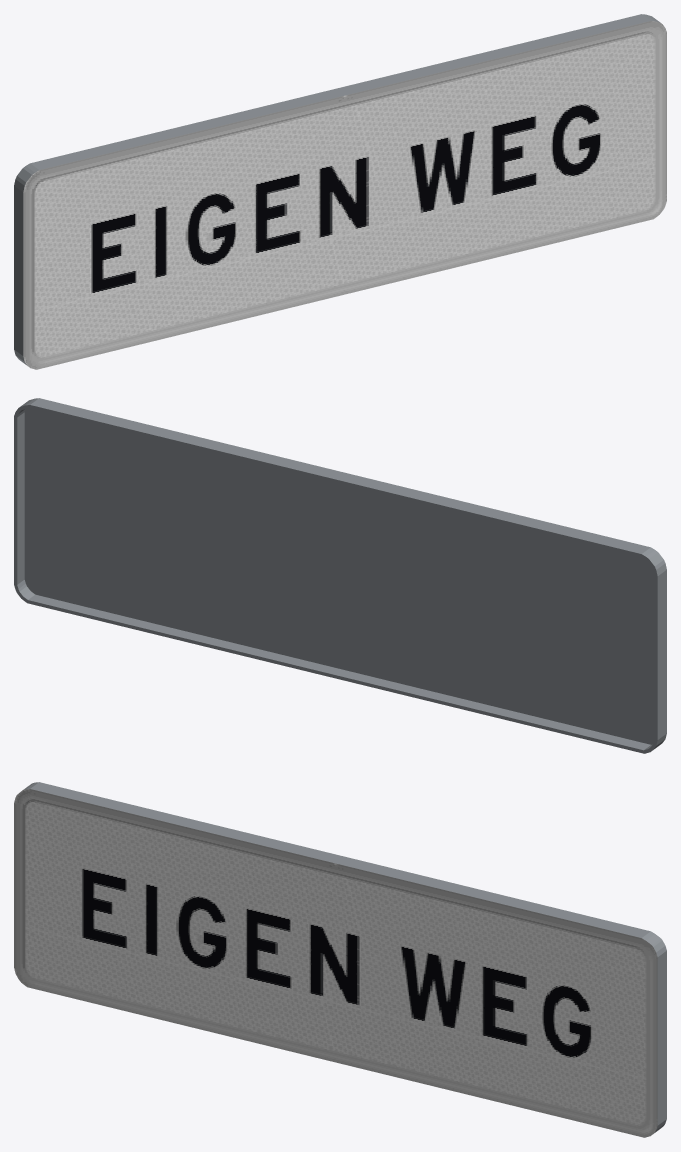
3 views of the same model, one above another, from view 1: azimuth 30°, elevation 25°; view 2: azimuth 150°, elevation 25°; view 3: azimuth 330°, elevation 25° (orthographic).
Visible parts, largest first — view 1: cat_5044ae78176497c7; view 2: cat_5044ae78176497c7; view 3: cat_5044ae78176497c7.
Part boxes in pixels (x1=…): cat_5044ae78176497c7: x1=14, y1=14, x2=666, y2=369; cat_5044ae78176497c7: x1=14, y1=398, x2=666, y2=753; cat_5044ae78176497c7: x1=14, y1=782, x2=666, y2=1137.
Size of the model in its own units: 0.6 by 0.015 by 0.1773.
Materials: 2 (1 with a texture image).
